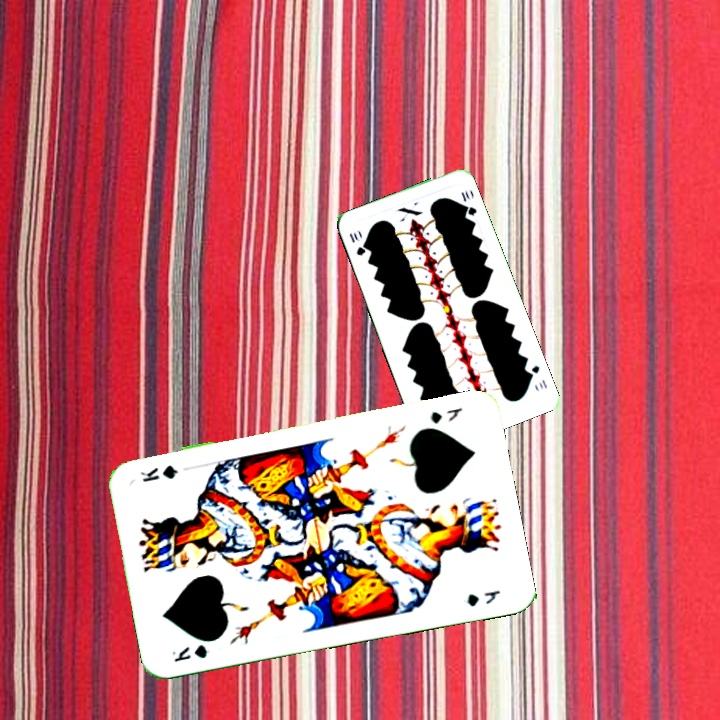G10: (524, 361, 550, 392), (345, 228, 368, 258)
GK: (170, 640, 210, 665), (426, 403, 465, 427)
